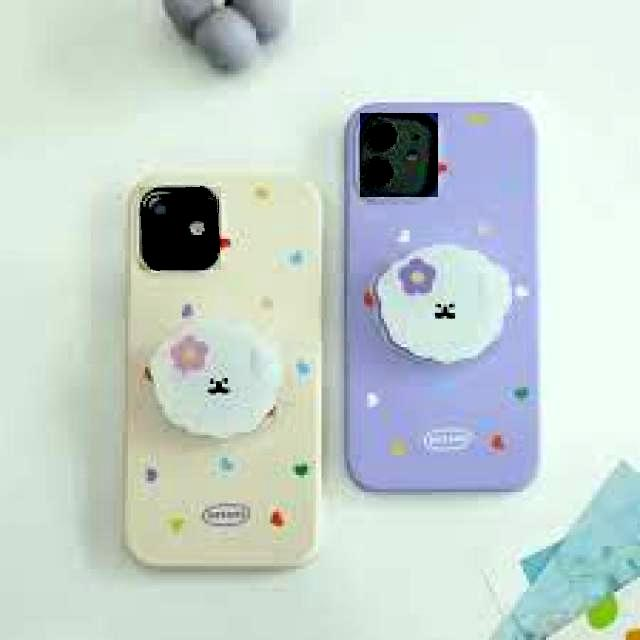lens_back: (148, 232, 182, 268), (367, 120, 400, 154), (144, 194, 178, 226), (364, 158, 394, 187)
phone: (338, 93, 547, 498), (124, 172, 328, 573)
